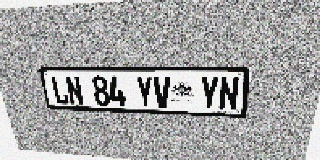4: (107, 76, 126, 107)
8: (91, 76, 111, 106)
L: (50, 76, 70, 105)
N: (218, 77, 240, 110), (65, 76, 84, 105)
V: (153, 76, 171, 108)
Y: (199, 76, 219, 110), (135, 76, 154, 108)
